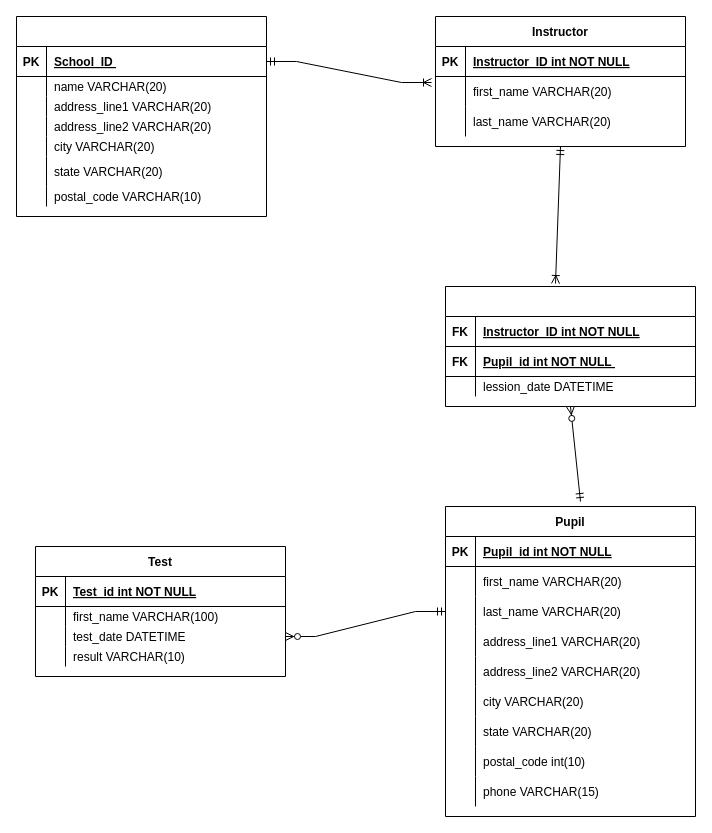
Some shapes in this 712 by 833 pixel diagram are drawn without their labels. The box of each missing label's shape, as (x1, y1, x2, y2) in pixels:
Drivingschool: (16, 16, 266, 216)
Instructorpupil: (444, 286, 696, 406)
